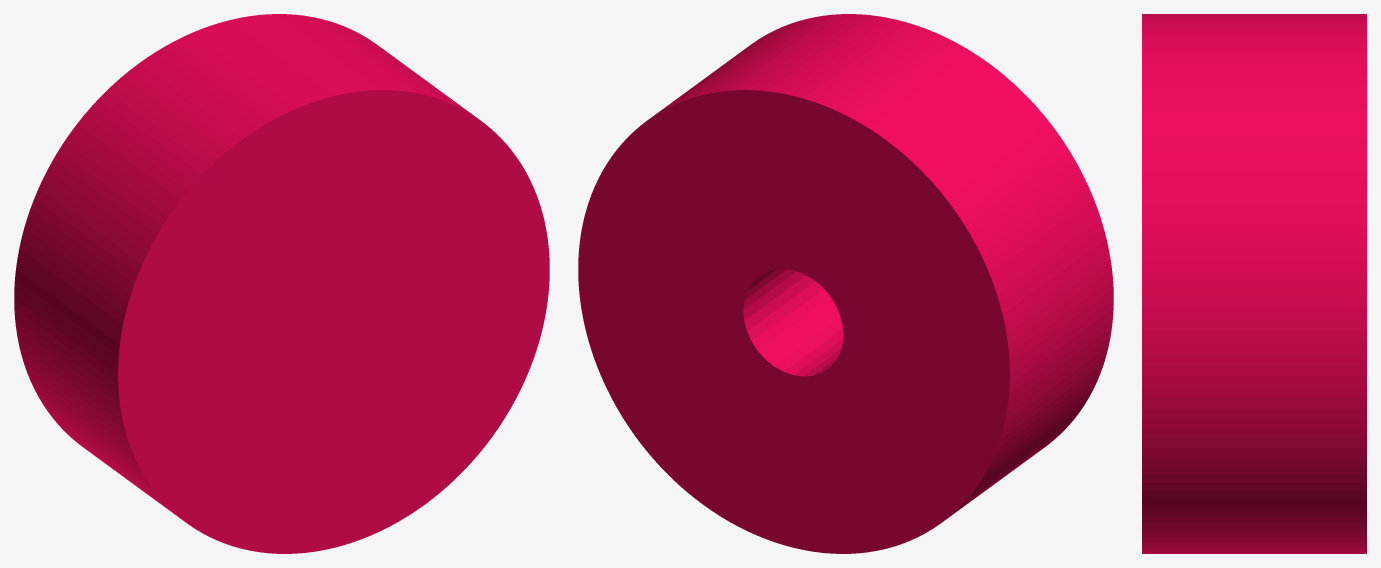
Rendered from right_back.dae.
The picture shows the model from 3 angles, left to right: view 1: azimuth 30°, elevation 25°; view 2: azimuth 150°, elevation 25°; view 3: azimuth 270°, elevation 25°; orthographic projection. The views are drawn at different scales.
Visible parts, largest first — view 1: og.001; view 2: og.001; view 3: og.001.
Part boxes in pixels (x1=…): og.001: x1=14, y1=14, x2=549, y2=553; og.001: x1=578, y1=14, x2=1113, y2=553; og.001: x1=1142, y1=14, x2=1366, y2=553.
Size of the model in its own units: 0.24 by 0.1 by 0.24.
